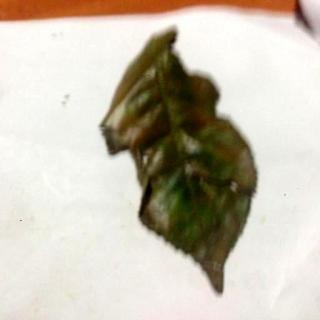Red Leaf Spot: (102, 28, 256, 296)
